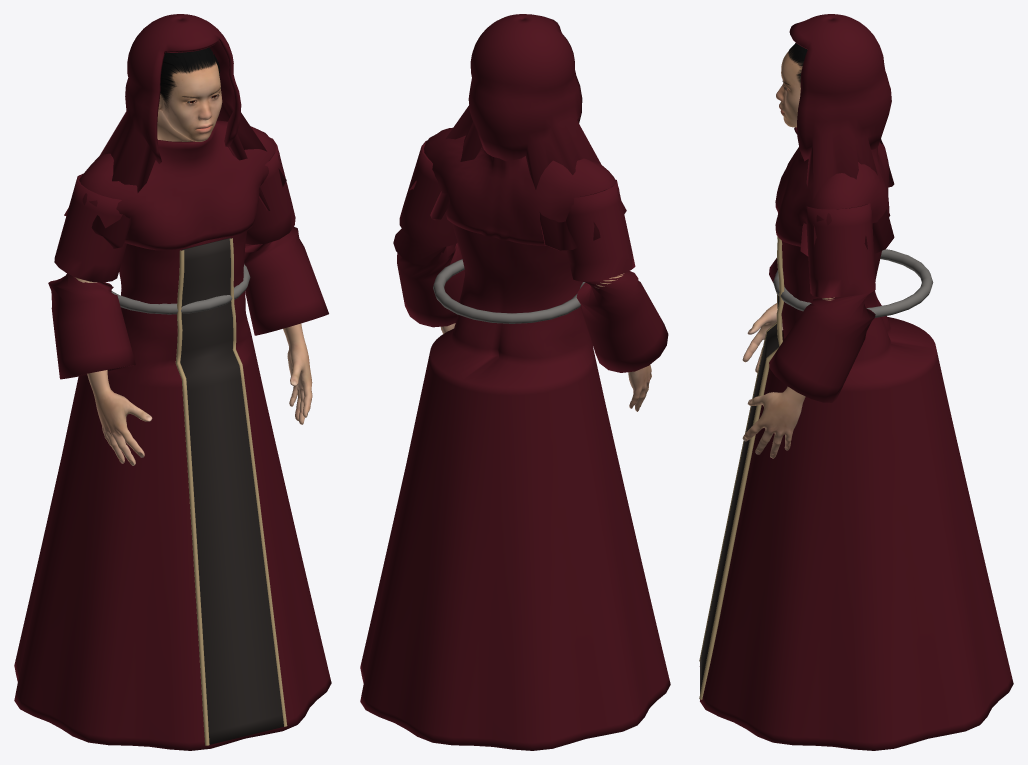
File: crew_controller.glb
3 views of the same model, side by side, from view 1: azimuth 30°, elevation 25°; view 2: azimuth 150°, elevation 25°; view 3: azimuth 270°, elevation 25° (orthographic). The views are drawn at different scales.
Visible parts, largest first — view 1: robe, tabard, mantle, hood, sleeve.001, sleeve, Human, tabard_edge, tabard_edge.001, Human.short04, belt; view 2: robe, hood, sleeve.001, mantle, sleeve, belt, Human; view 3: robe, hood, sleeve, mantle, Human, tabard_edge.001, tabard, belt, tabard_edge.
Part boxes in pixels (box(x1,y1,x2,y2)): robe: box(14, 231, 331, 750); tabard: box(180, 238, 283, 744); mantle: box(79, 120, 279, 250); hood: box(64, 14, 286, 248); sleeve.001: box(48, 173, 135, 379); sleeve: box(244, 137, 328, 335); Human: box(75, 61, 312, 465); tabard_edge: box(175, 250, 209, 745); tabard_edge.001: box(229, 238, 287, 726); Human.short04: box(160, 47, 220, 109); belt: box(111, 264, 250, 314); robe: box(360, 223, 670, 750); hood: box(409, 14, 626, 250); sleeve.001: box(566, 180, 668, 372); mantle: box(424, 127, 620, 245); sleeve: box(393, 140, 464, 327); belt: box(433, 259, 585, 323); Human: box(440, 273, 651, 411); robe: box(699, 240, 1013, 750); hood: box(789, 14, 894, 256); sleeve: box(769, 203, 875, 402); mantle: box(775, 127, 890, 246); Human: box(742, 51, 834, 458); tabard_edge.001: box(699, 237, 784, 699); tabard: box(700, 295, 779, 693); belt: box(773, 249, 933, 317); tabard_edge: box(699, 236, 782, 661).
Bounding box in the file's own units: 0.7795 × 1.82 × 0.7724.
9 materials, 5 textured.
